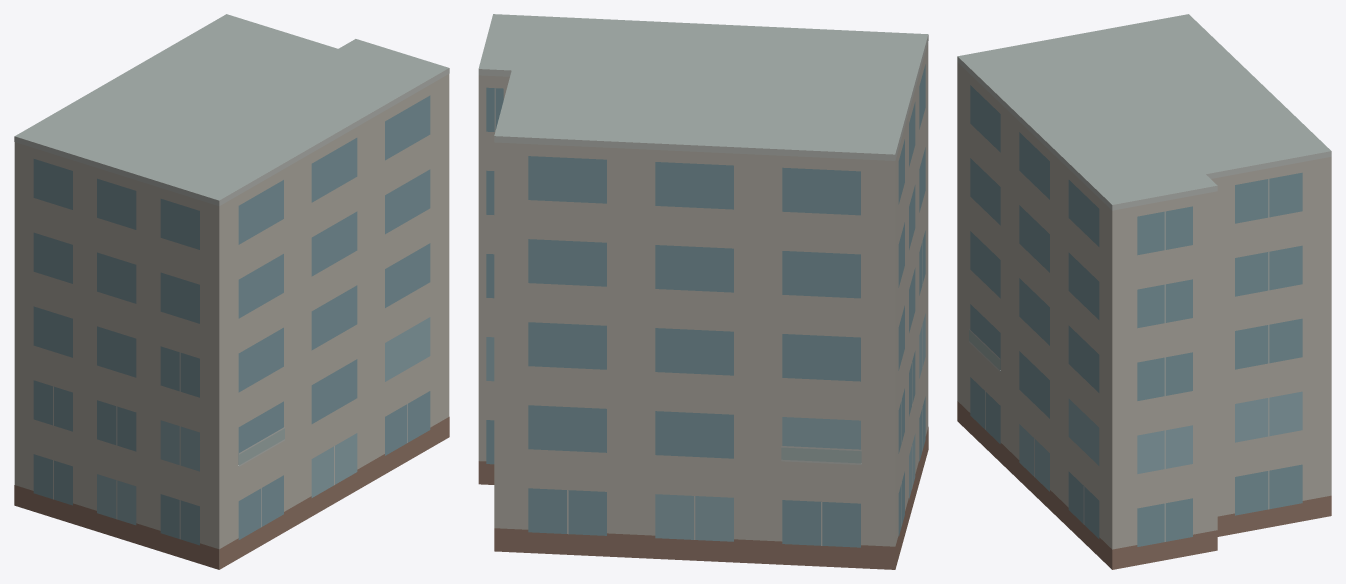
Rendered from survey-upis-32876664.glb.
The picture shows the model from 3 angles, left to right: view 1: azimuth 30°, elevation 25°; view 2: azimuth 150°, elevation 25°; view 3: azimuth 270°, elevation 25°; orthographic projection. The views are drawn at different scales.
Visible parts, largest first — view 1: survey-upis-32876664.tmp; view 2: survey-upis-32876664.tmp; view 3: survey-upis-32876664.tmp.
Boxes of the visible parts, x1,y1,x2,y2 form: survey-upis-32876664.tmp: [14, 14, 449, 569]; survey-upis-32876664.tmp: [478, 14, 928, 569]; survey-upis-32876664.tmp: [957, 14, 1331, 569].
Size of the model in its own units: 17.75 by 15.8 by 14.7.
